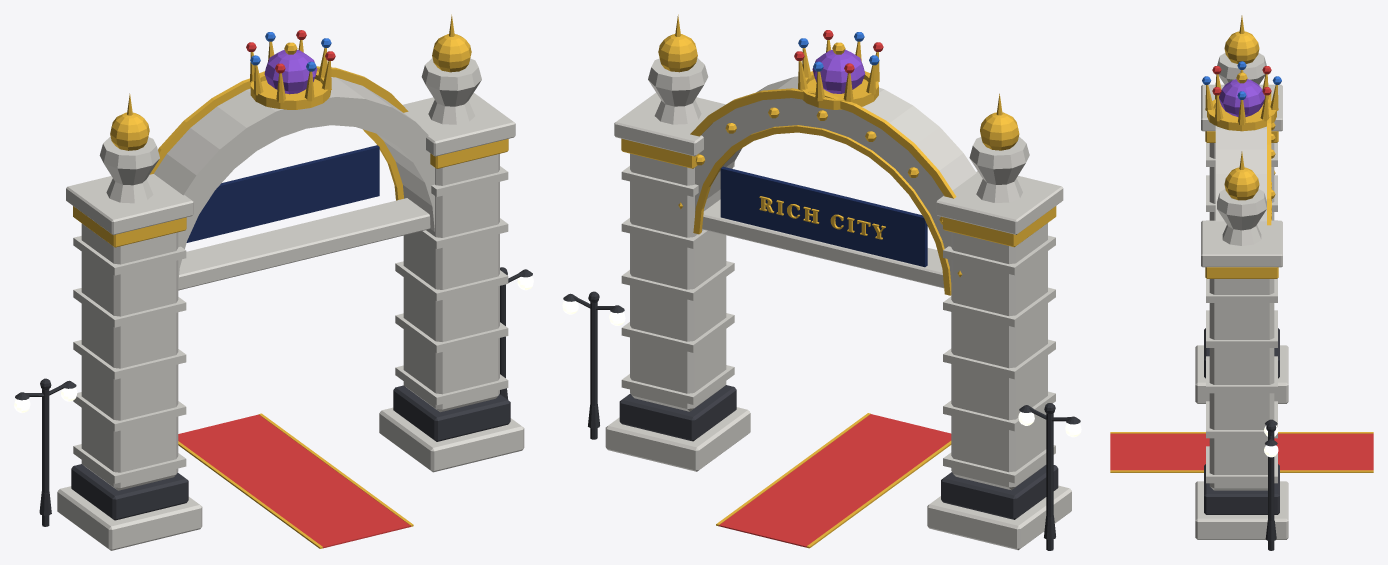
File: CityGate.fbx
3 views of the same model, side by side, from view 1: azimuth 30°, elevation 25°; view 2: azimuth 150°, elevation 25°; view 3: azimuth 270°, elevation 25° (orthographic). The views are drawn at different scales.
Visible parts, largest first — view 1: CityGate_Marble, CityGate_Red, CityGate_Gold, CityGate_Navy, CityGate_MarbleDark, CityGate_Charcoal, CityGate_Purple; view 2: CityGate_Marble, CityGate_Gold, CityGate_Red, CityGate_Navy, CityGate_MarbleDark, CityGate_Charcoal, CityGate_Purple, CityGate_WindowGlow; view 3: CityGate_Marble, CityGate_Red, CityGate_Gold, CityGate_MarbleDark, CityGate_Purple, CityGate_Charcoal.
Part boxes in pixels (left/top/right/bottom): CityGate_Marble: left=57, top=58, right=524, bottom=550; CityGate_Red: left=178, top=30, right=410, bottom=548; CityGate_Gold: left=73, top=14, right=508, bottom=548; CityGate_Navy: left=186, top=145, right=379, bottom=242; CityGate_MarbleDark: left=71, top=385, right=510, bottom=520; CityGate_Charcoal: left=15, top=267, right=532, bottom=526; CityGate_Purple: left=264, top=49, right=317, bottom=94; CityGate_Marble: left=605, top=58, right=1071, bottom=550; CityGate_Gold: left=621, top=14, right=1056, bottom=548; CityGate_Red: left=719, top=30, right=951, bottom=547; CityGate_Navy: left=720, top=166, right=927, bottom=267; CityGate_MarbleDark: left=619, top=385, right=1058, bottom=519; CityGate_Charcoal: left=563, top=291, right=1080, bottom=550; CityGate_Purple: left=812, top=49, right=865, bottom=93; CityGate_WindowGlow: left=562, top=300, right=1081, bottom=437; CityGate_Marble: left=1195, top=53, right=1288, bottom=539; CityGate_Red: left=1110, top=66, right=1373, bottom=470; CityGate_Gold: left=1110, top=15, right=1373, bottom=472; CityGate_MarbleDark: left=1204, top=328, right=1279, bottom=514; CityGate_Purple: left=1219, top=79, right=1264, bottom=116; CityGate_Charcoal: left=1265, top=419, right=1277, bottom=550.
Bounding box in the file's own units: 35.35 × 28.7 × 18.
